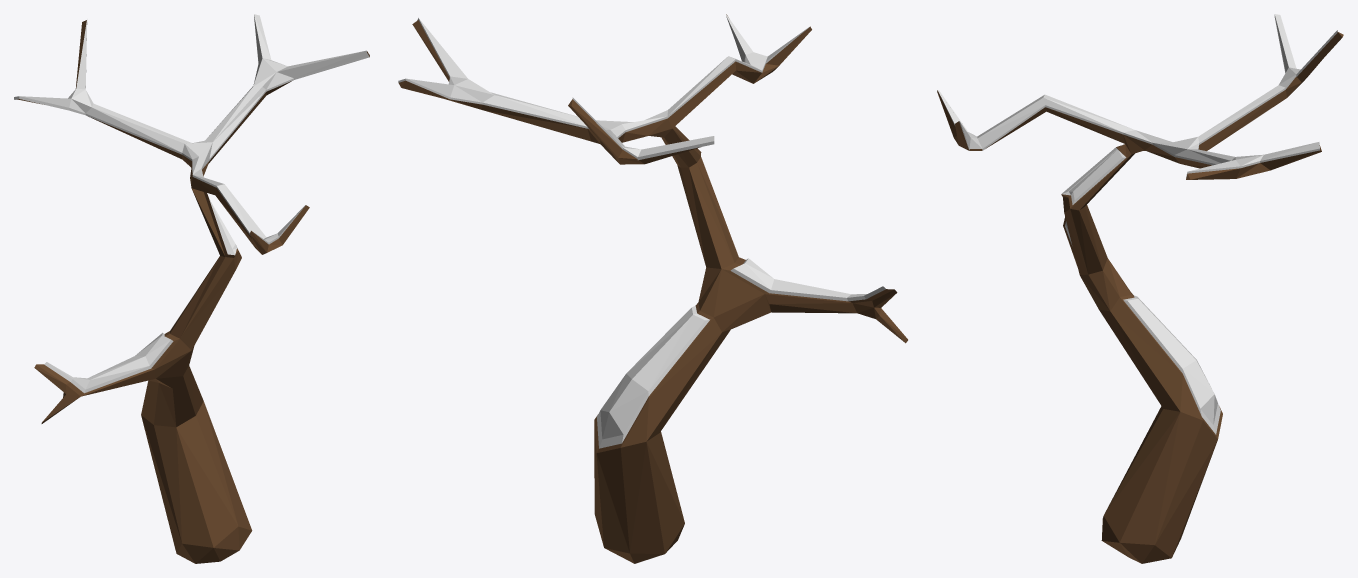
Rendered from kaleboom.dae.
3 views of the same model, side by side, from view 1: azimuth 30°, elevation 25°; view 2: azimuth 150°, elevation 25°; view 3: azimuth 270°, elevation 25° (orthographic). The views are drawn at different scales.
Parts seen in each view (by area): view 1: Cube; view 2: Cube; view 3: Cube.
Boxes of the visible parts, bbox=[...] form: Cube: bbox=[14, 14, 369, 563]; Cube: bbox=[398, 14, 907, 563]; Cube: bbox=[937, 14, 1343, 563].
Size of the model in its own units: 1.73 by 1.48 by 2.07.
